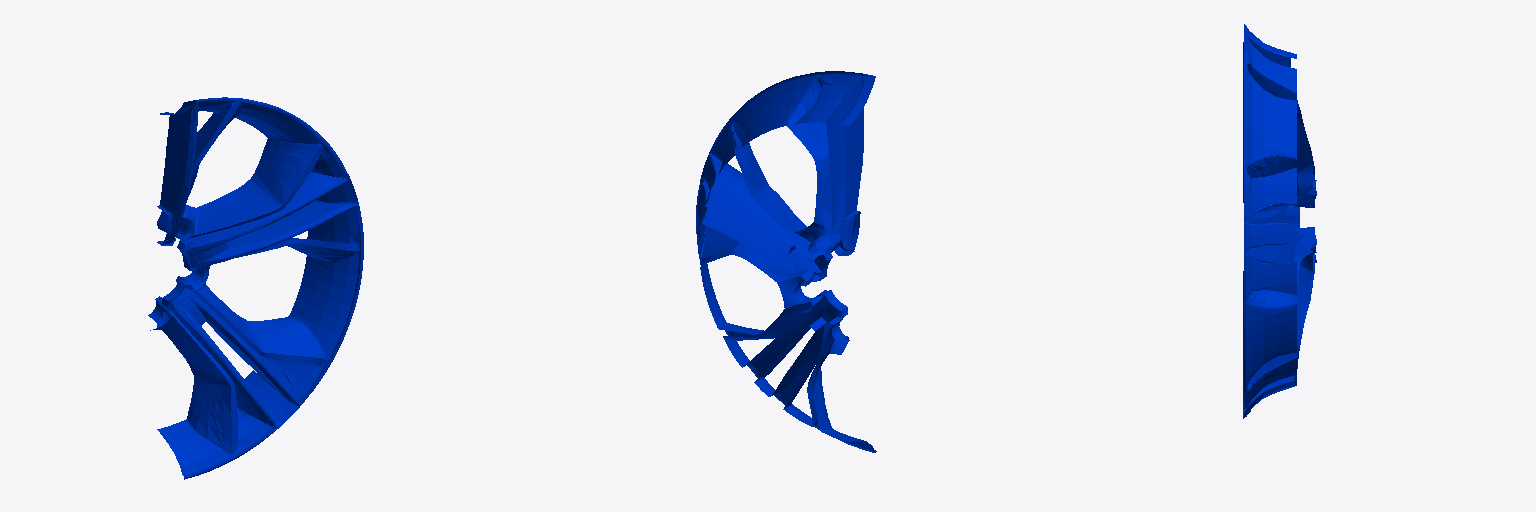
Rendered from rim_to_invertbend.obj.
3 views of the same model, side by side, from view 1: azimuth 30°, elevation 25°; view 2: azimuth 150°, elevation 25°; view 3: azimuth 270°, elevation 25° (orthographic).
Parts seen in each view (by area): view 1: polySurface21040 group; view 2: polySurface21040 group; view 3: polySurface21040 group.
Part boxes in pixels (x1,y1,x2,y2): polySurface21040 group: (148, 97, 363, 479); polySurface21040 group: (696, 71, 876, 452); polySurface21040 group: (1243, 24, 1316, 418).
Size of the model in its own units: 69.91 by 140 by 24.81.